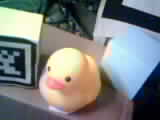duck: (24, 37, 116, 107)
